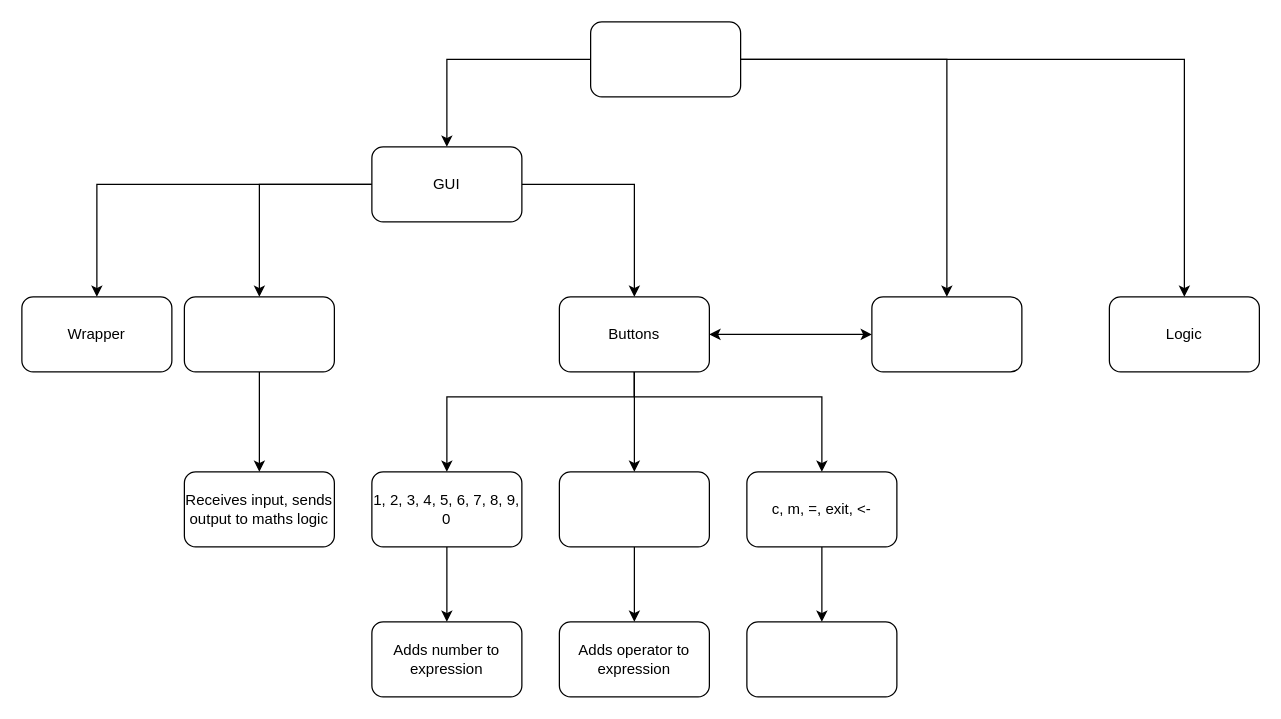
Image size: 1281x719. Some labels were removed from this diagram. The shapes that lost their labels are listed below. From the top down, each one's centre as x and y in pixels, then its label:
the point at 665,59: GUI Calculator
the point at 258,334: Screen
the point at 946,334: Events
the point at 633,509: +, -, *, /, ^, sqrt, %
the point at 821,659: Performs function such as clear, backspace, calculate etc
